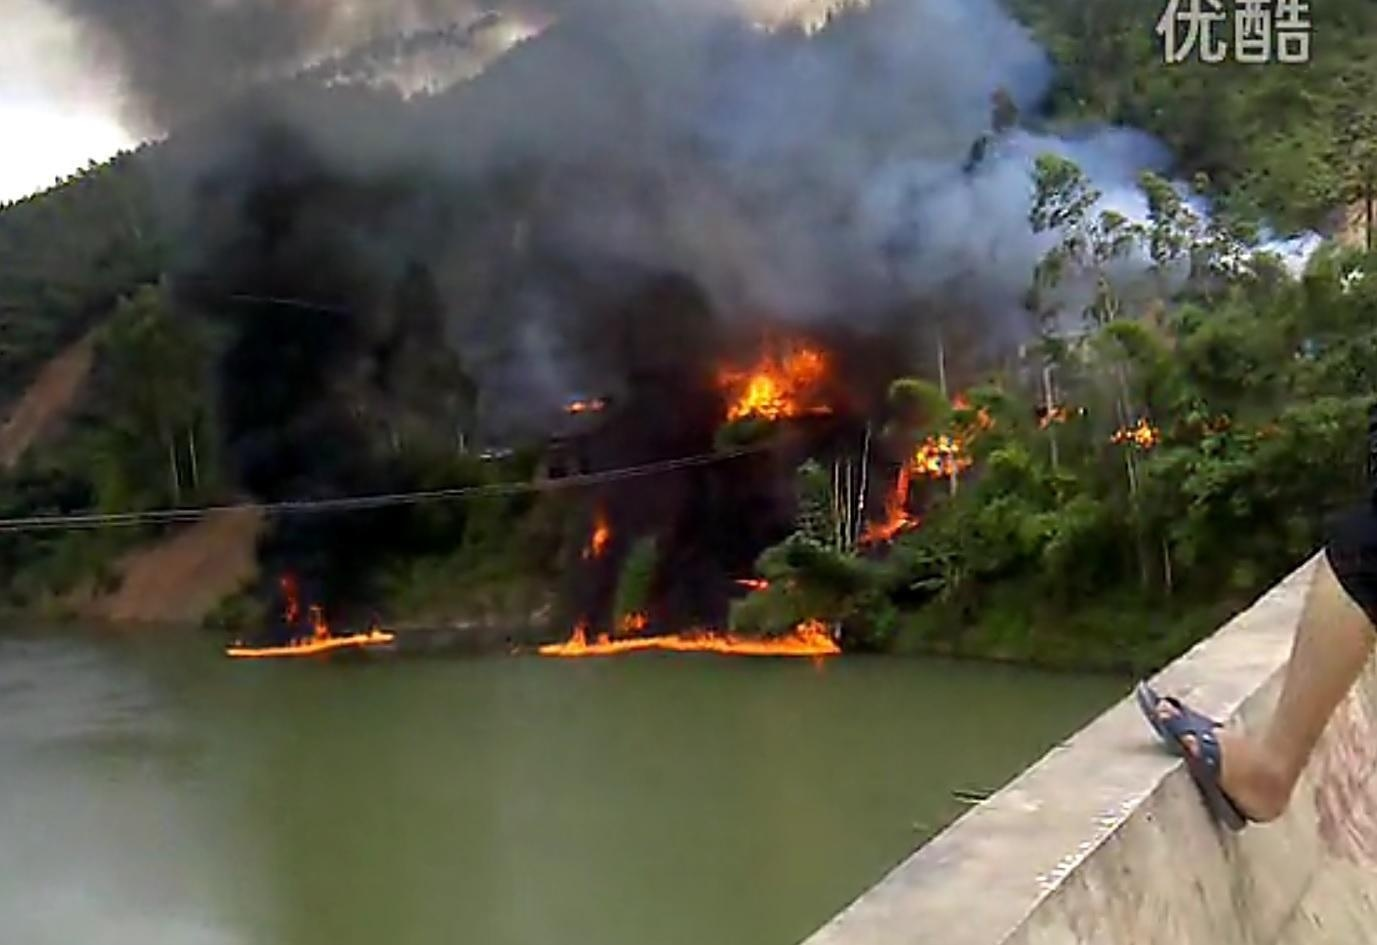fire: (531, 597, 853, 663), (861, 397, 989, 545), (717, 332, 833, 424), (224, 610, 391, 663), (1110, 413, 1160, 445)
